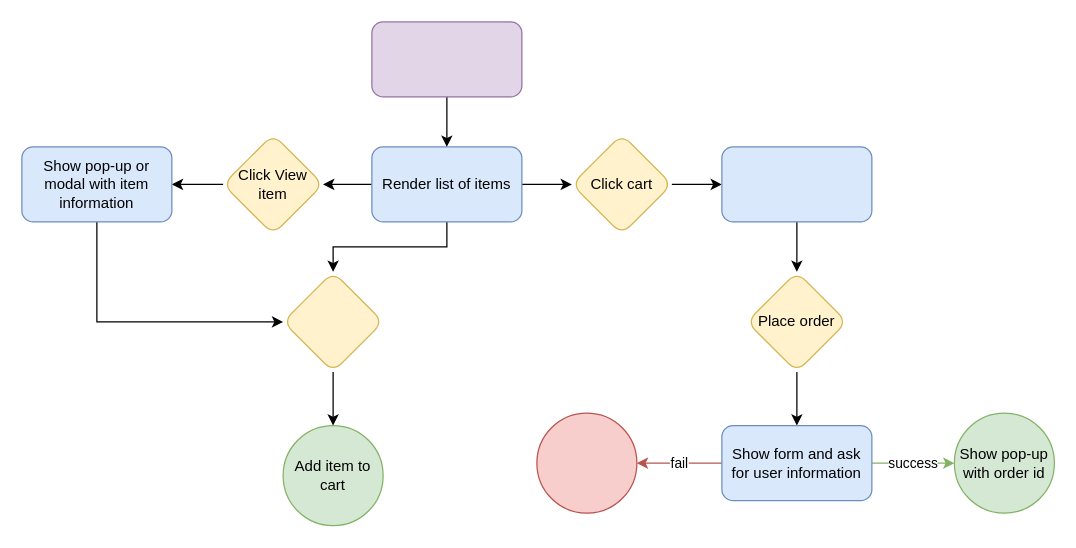
Some shapes in this 1076 by 548 pixel diagram are drawn without their labels. Here are the shapes that lost their labels. From the top down, the centre of each, then its label:
[446,59]: Open site/shop
[796,184]: Show pop-up or modal with list of added items, all info
[332,321]: Click Buy item
[586,462]: Show pop-up with error info
